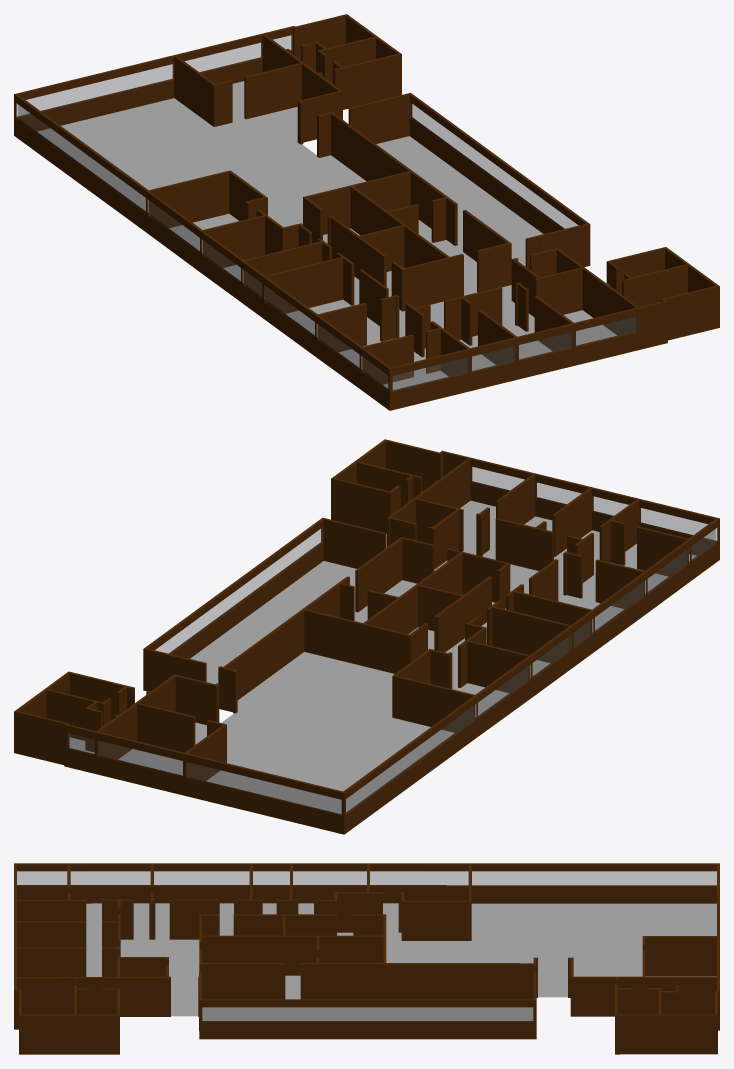
The picture shows the model from 3 angles, top to bottom: view 1: azimuth 30°, elevation 25°; view 2: azimuth 150°, elevation 25°; view 3: azimuth 270°, elevation 25°; orthographic projection. The views are drawn at different scales.
Parts seen in each view (by area): view 1: Plane.025, Plane.006; view 2: Plane.025, Plane.006; view 3: Plane.025, Plane.006.
Part boxes in pixels (bbox=[...]): Plane.025: bbox=[14, 14, 719, 410]; Plane.006: bbox=[37, 81, 616, 390]; Plane.025: bbox=[14, 439, 719, 834]; Plane.006: bbox=[69, 491, 696, 813]; Plane.025: bbox=[14, 863, 719, 1054]; Plane.006: bbox=[86, 903, 716, 1020].
Size of the model in its own units: 25.17 by 3 by 49.21.
